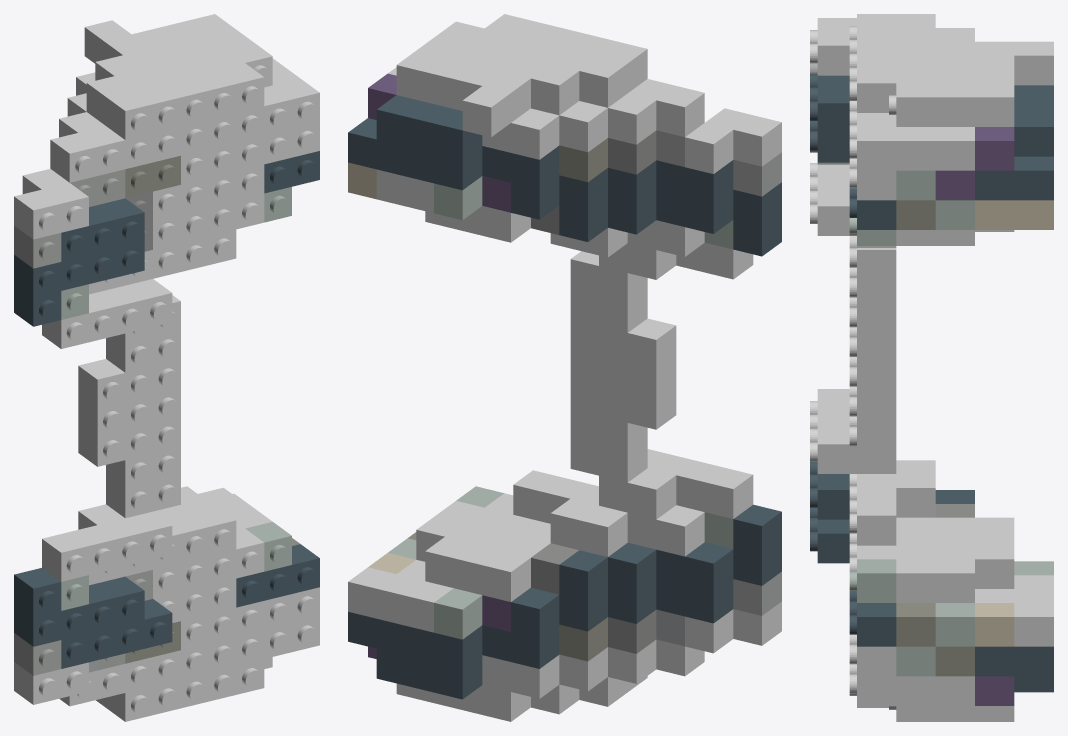
File: full.glb
3 views of the same model, side by side, from view 1: azimuth 30°, elevation 25°; view 2: azimuth 150°, elevation 25°; view 3: azimuth 270°, elevation 25° (orthographic). The views are drawn at different scales.
Visible parts, largest first — view 1: world; view 2: world; view 3: world.
Boxes of the visible parts, box(x1,y1,x2,y2) form: world: box(14, 14, 319, 721); world: box(348, 14, 781, 721); world: box(810, 14, 1053, 721).
Bounding box in the file's own units: 88 × 168 × 59.4.
